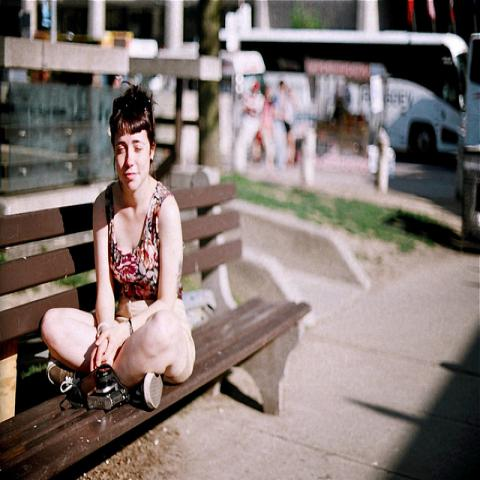bus: (222, 29, 465, 169)
